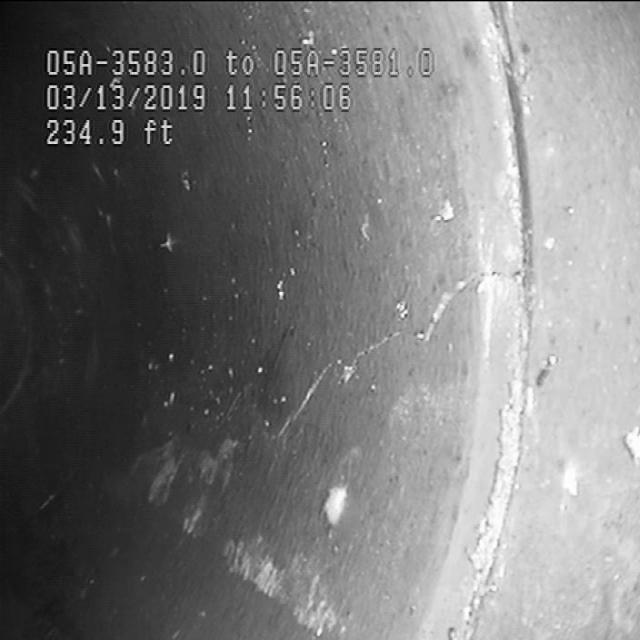Crack: (266, 248, 516, 441)
